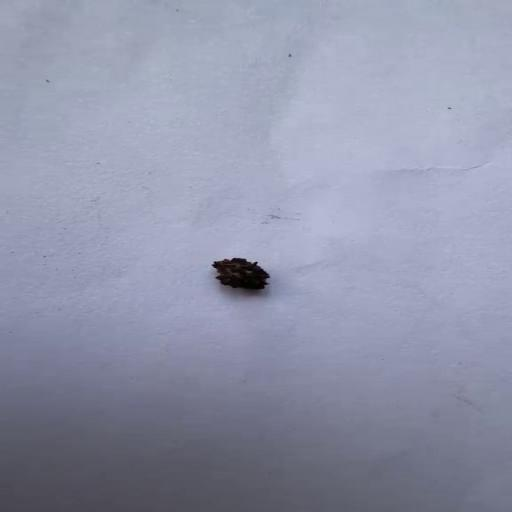papaya_seed: (211, 254, 272, 292)
